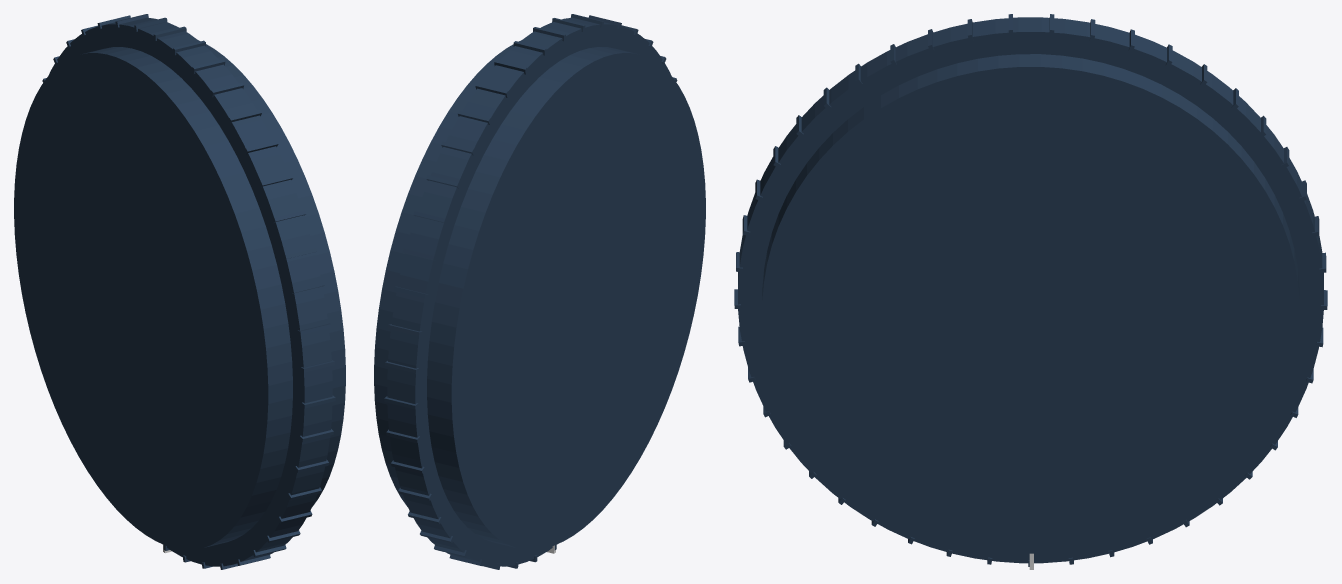
The model's file is pitch_handle.glb.
The picture shows the model from 3 angles, left to right: view 1: azimuth 30°, elevation 25°; view 2: azimuth 150°, elevation 25°; view 3: azimuth 270°, elevation 25°; orthographic projection. The views are drawn at different scales.
Visible parts, largest first — view 1: Pitch Handle Left hole.001, Pitch Handle Left.004, Cube.034; view 2: Pitch Handle Left hole.001, Pitch Handle Left.004, Cube.034; view 3: Pitch Handle Left hole.001, Pitch Handle Left.004, Cube.034.
Part boxes in pixels (left/top/right/bottom): Pitch Handle Left hole.001: left=14, top=40, right=345, bottom=549; Pitch Handle Left.004: left=48, top=17, right=332, bottom=566; Cube.034: left=42, top=14, right=335, bottom=569; Pitch Handle Left hole.001: left=374, top=40, right=705, bottom=549; Pitch Handle Left.004: left=387, top=17, right=671, bottom=566; Cube.034: left=384, top=14, right=677, bottom=569; Pitch Handle Left hole.001: left=762, top=54, right=1299, bottom=553; Pitch Handle Left.004: left=738, top=17, right=1323, bottom=563; Cube.034: left=734, top=14, right=1327, bottom=566.
Bounding box in the file's own units: 0.0781 × 0.4909 × 0.4886.
